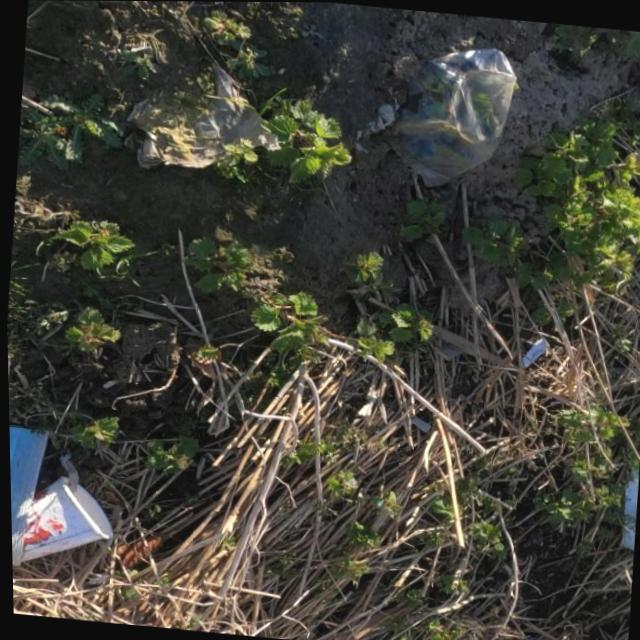Cup: (13, 472, 116, 573)
Mask: (7, 422, 51, 572), (614, 472, 638, 553)
